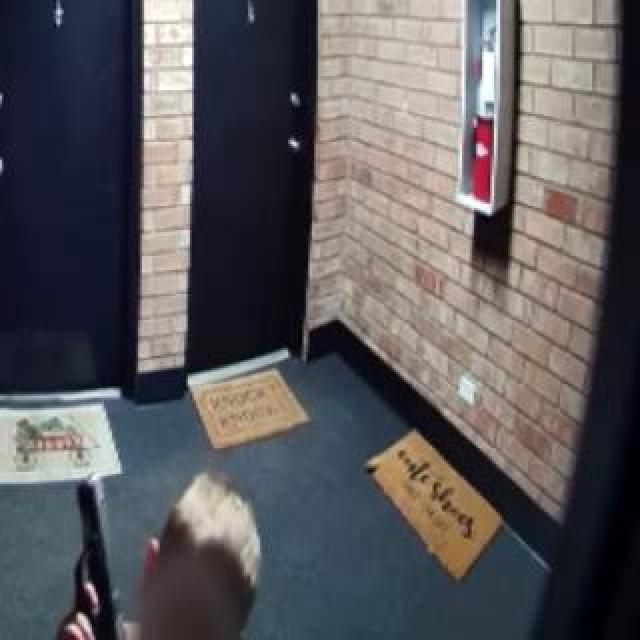Guns: (33, 441, 150, 640)
